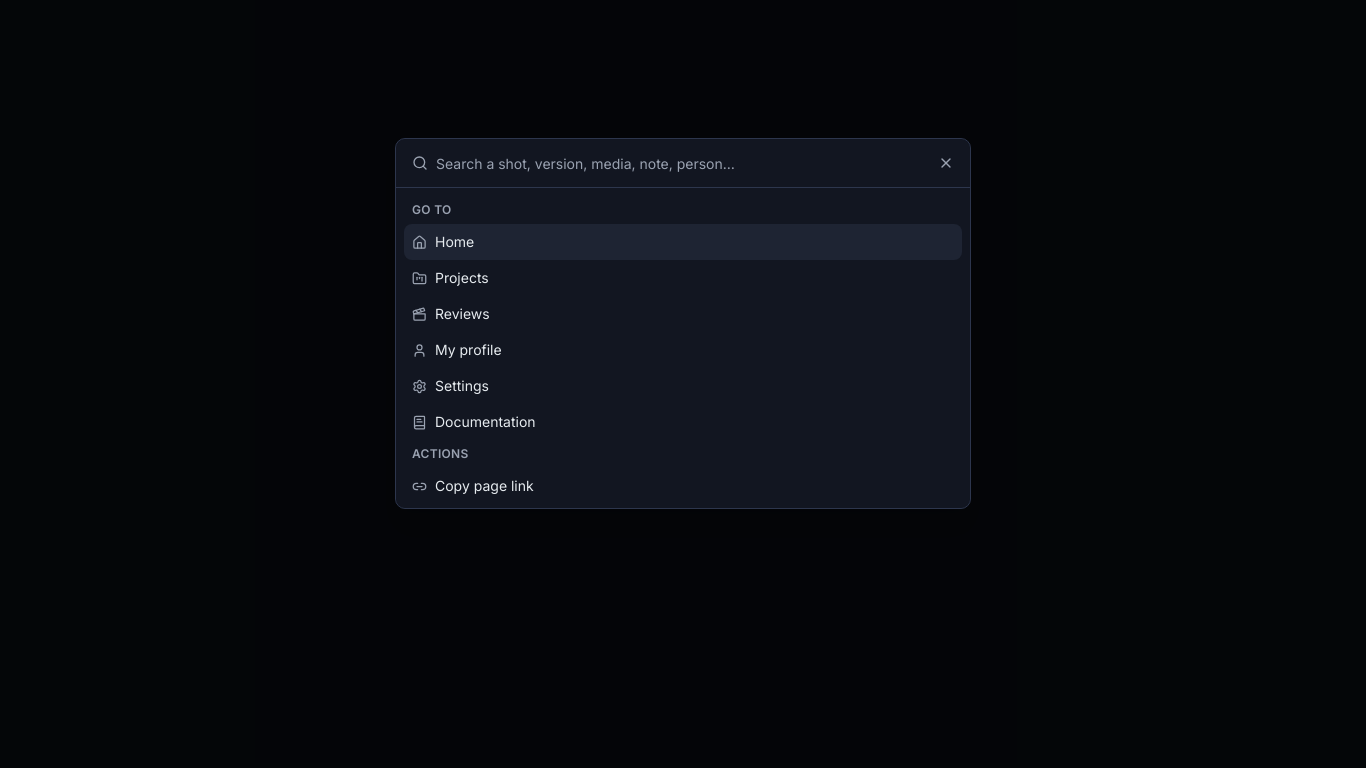
CommandPalette — what one really searches for › also finds playlists and people
Type "ana" into the dropdown with placeholder "Search a shot, version, media, note, person…" at point(695, 163), box [436,139,954,187]
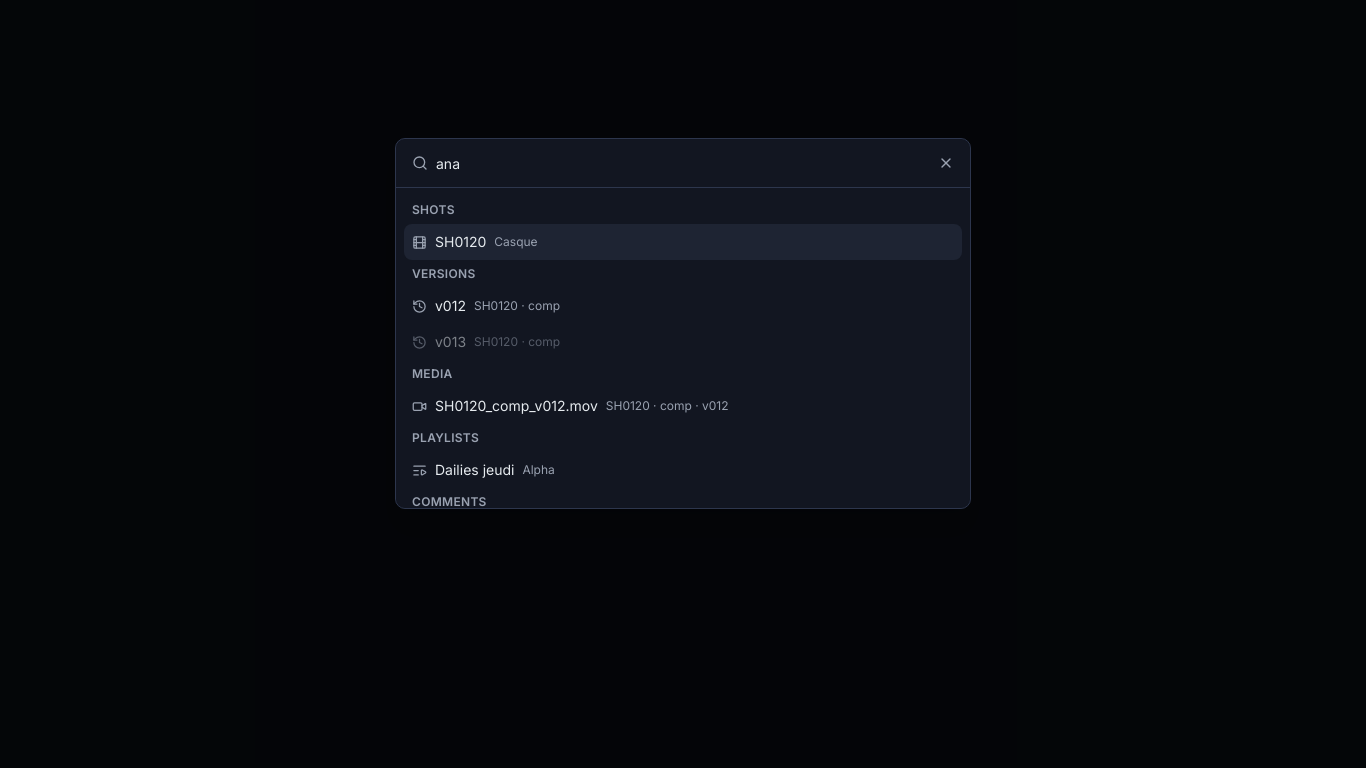
Expected: the text "Dailies jeudi" is shown, [435,460,514,480]
